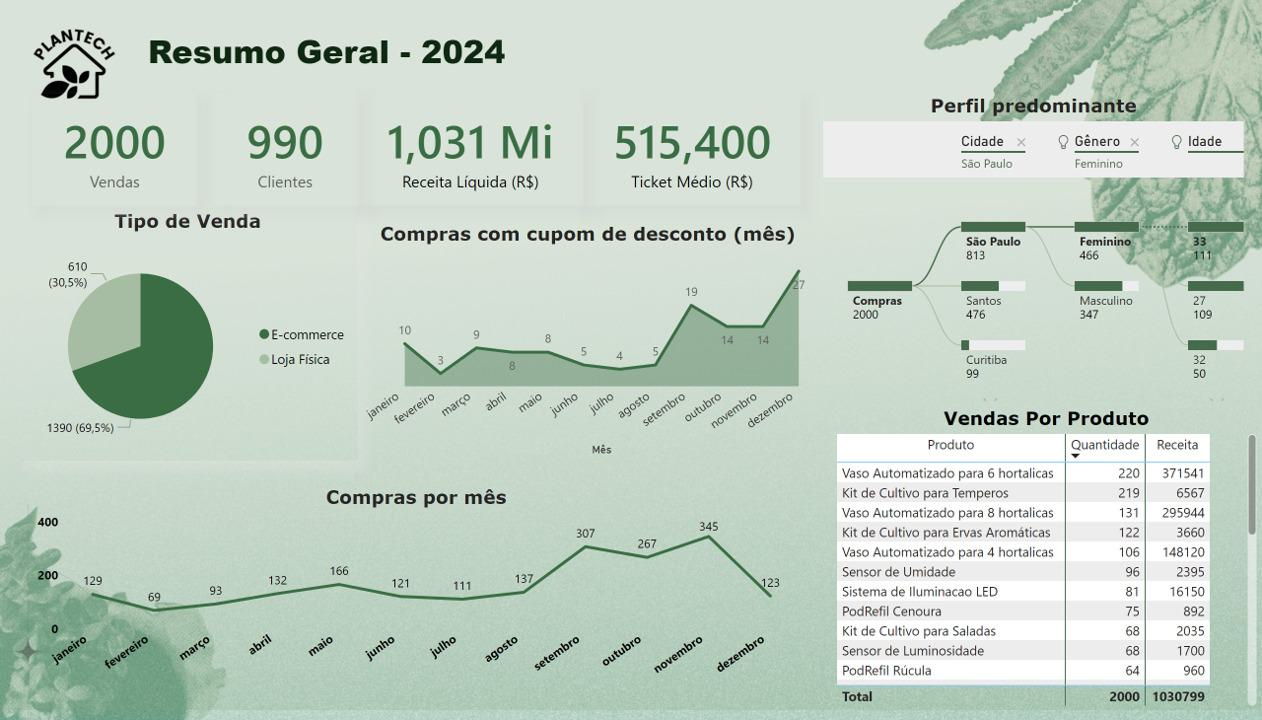

Layout of this report page (visuals, bound fields, positions):
{"tool":"powerbi","page":{"name":"Resumo Geral 2024","canvas":[1280,720],"ordinal":0},"visuals":[{"type":"textbox","box":[144.8,23.9,488.1,95.5],"z":0},{"type":"image","box":[0,0,145,131.5],"z":1000},{"type":"pieChart","title":"Tipo de Venda","fields":{"Category":["Clientes (3).Tipo de Venda"],"Y":["CountNonNull(Clientes (3).Qtd de Venda)"]},"box":[18.3,211.7,345,255],"z":2000},{"type":"card","fields":{"Values":["CountNonNull(Clientes.Qtd de Venda)"]},"box":[33.3,95,166.7,113.3],"z":3000},{"type":"card","fields":{"Values":["Sum(Clientes.Valor Líquido)"]},"box":[363.3,95,228.3,113.3],"z":4000},{"type":"card","fields":{"Values":["Count(Clientes.Nome Cliente)"]},"box":[215,95,148.3,113.3],"z":5000},{"type":"card","fields":{"Values":["Clientes.Ticket Médio"]},"box":[591.7,95,220,113.3],"z":6000},{"type":"tableEx","title":"Vendas Por Produto","fields":{"Values":["Clientes (3).Produto","Count(Clientes (3).Qtd de Venda)","Sum(Clientes.Valor Líquido)"]},"box":[843.3,411.7,436.7,308.3],"z":7000},{"type":"decompositionTreeVisual","title":"Perfil predominante","fields":{"ExplainBy":["Clientes (3).Cidade","Clientes (3).Gênero","Clientes (3).Idade"],"Analyze":["CountNonNull(Clientes.Qtd de Venda)"]},"box":[830,95,436.7,316.7],"z":8000},{"type":"lineChart","title":"Compras por mês","fields":{"Y":["CountNonNull(Clientes.Qtd de Venda)"],"Category":["TabelaData.Date.Variation.Hierarquia de datas.Mês"]},"box":[33.3,491.7,778.3,206.7],"z":9000},{"type":"areaChart","title":"Compras com cupom de desconto (mês)","fields":{"Category":["TabelaData.Date.Variation.Hierarquia de datas.Mês"],"Y":["Clientes.ComprasComCupom"]},"box":[363.3,225,466.7,241.7],"z":10000}]}

Visuals, with their boxes in screenshot pixels (x1, y1, x2, y2), scaled from the page's 1280x720 canvas onto the 1262x720 screenshot:
textbox: 143, 24, 624, 119
image: 0, 0, 143, 132
"Tipo de Venda" pieChart: 18, 212, 358, 467
card - CountNonNull(Clientes.Qtd de Venda): 33, 95, 197, 208
card - Sum(Clientes.Valor Líquido): 358, 95, 583, 208
card - Count(Clientes.Nome Cliente): 212, 95, 358, 208
card - Clientes.Ticket Médio: 583, 95, 800, 208
"Vendas Por Produto" tableEx: 831, 412, 1261, 719
"Perfil predominante" decompositionTreeVisual: 818, 95, 1249, 412
"Compras por mês" lineChart: 33, 492, 800, 698
"Compras com cupom de desconto (mês)" areaChart: 358, 225, 818, 467
